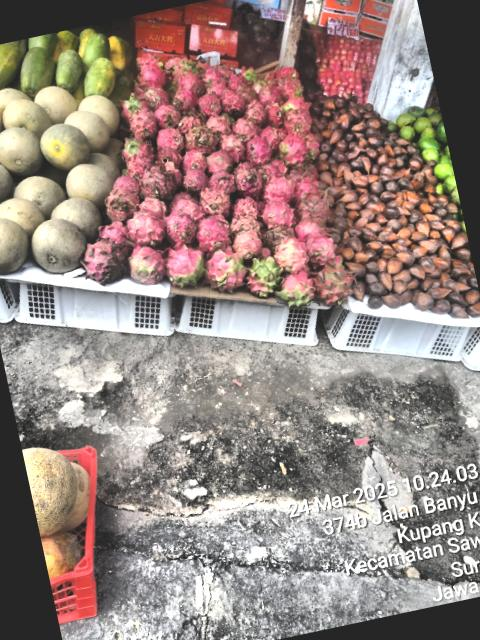buah-naga-belum-matang: (203, 248, 250, 295), (243, 252, 288, 301), (165, 242, 209, 292), (125, 242, 170, 288), (274, 270, 318, 310), (274, 234, 313, 277), (230, 226, 268, 264), (278, 131, 313, 169), (119, 132, 155, 163), (116, 89, 151, 118), (282, 90, 310, 116), (239, 65, 260, 84)
buah-naga-matang: (79, 238, 131, 288), (314, 262, 358, 308), (125, 207, 170, 250), (193, 212, 234, 255), (296, 190, 336, 230), (258, 172, 296, 208), (261, 198, 297, 234), (197, 186, 234, 221), (102, 186, 140, 220), (140, 170, 180, 202), (167, 191, 204, 225), (96, 218, 130, 252), (184, 124, 222, 153), (226, 211, 265, 239), (166, 208, 198, 240), (153, 100, 185, 132), (208, 166, 242, 196), (230, 162, 264, 192), (154, 125, 190, 153), (230, 192, 263, 222), (109, 166, 142, 196), (138, 61, 168, 94), (288, 169, 322, 198), (170, 66, 202, 96), (282, 110, 314, 139), (296, 215, 330, 242), (244, 137, 275, 166), (180, 164, 210, 193), (218, 130, 246, 160), (128, 112, 158, 140), (196, 94, 226, 122), (156, 148, 186, 175), (219, 88, 246, 116), (181, 147, 210, 172), (231, 116, 260, 141), (206, 113, 234, 137), (207, 148, 234, 172), (242, 97, 266, 124), (199, 68, 224, 93), (258, 82, 282, 108), (262, 125, 289, 148), (139, 196, 170, 216), (176, 110, 207, 130), (144, 87, 172, 109), (169, 87, 194, 110), (261, 160, 288, 180), (278, 77, 305, 96), (266, 104, 287, 128)
